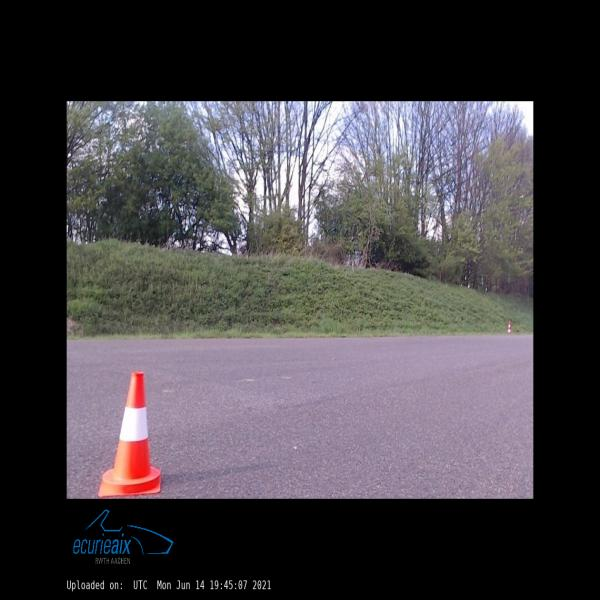large_orange_cone: (507, 320, 512, 335)
orange_cone: (98, 372, 161, 497)
